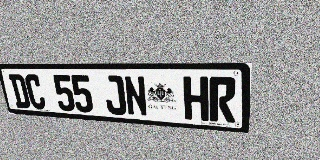5: (70, 75, 94, 113), (52, 75, 76, 112)
C: (24, 74, 47, 110)
D: (8, 74, 31, 109)
H: (183, 76, 209, 121)
J: (102, 75, 127, 115)
N: (123, 76, 148, 117)
R: (209, 77, 236, 123)
